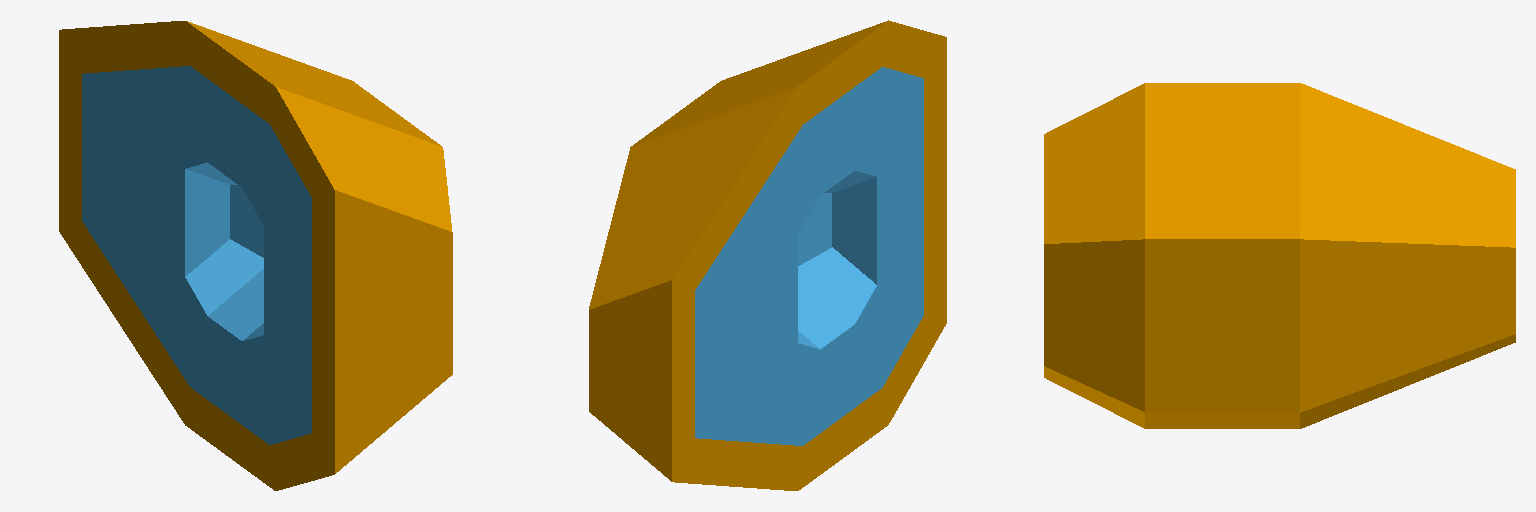
URDF robot description (seeded_half_avocado):
<?xml version="1.0"?>
<robot name="seeded_half_avocado">
  <link name="peel">
    <inertial>
        <origin rpy="0 0 0" xyz="0 0 0"/>
        <mass value="0.001"/>
        <inertia ixx="4.4e-5" ixy="0" ixz="0" iyy="0" iyz="0" izz="4.4e-5"/>
    </inertial>
    <visual>
      <geometry>
        <mesh filename="peel_visual.obj"/>
      </geometry>
    </visual>
    <collision>
      <geometry>
        <mesh filename="peel_collision.obj"/>
      </geometry>
      <surface>
           <bounce restitution_coefficient = "0.1"/>
      </surface>
    </collision>
  </link>
  <link name="flesh">
    <inertial>
        <origin rpy="0 0 0" xyz="0 0 0"/>
        <mass value="0.0124"/>
        <inertia ixx="1.9e-5" ixy="0" ixz="0" iyy="6.8e-6" iyz="0" izz="1.2e-5"/>
    </inertial>
    <visual>
      <geometry>
        <mesh filename="flesh_visual.obj"/>
      </geometry>
    </visual>
    <collision>
      <geometry>
        <mesh filename="flesh_collision.obj"/>
      </geometry>
      <surface>
           <bounce restitution_coefficient = "0.1"/>
      </surface>
    </collision>
  </link>
  <joint name="peel_to_flesh" type="fixed">
    <parent link="peel"/>
    <child link="flesh"/>
    <origin rpy="0 0 0" xyz="0 0 0"/>
  </joint>
</robot>

--- What the picture shows (computed from the rendered views, not written in the file) ---
Views: 3 orthographic renders of the robot side by side, from view 1: azimuth 30°, elevation 25°; view 2: azimuth 150°, elevation 25°; view 3: azimuth 270°, elevation 25°.
Robot: seeded_half_avocado — 2 links, 1 joints (1 fixed); root link peel; default pose: every joint at zero.
Links seen in each view (by area): view 1: peel, flesh; view 2: peel, flesh; view 3: peel.
Boxes of the visible links, <box> form: peel: <box>59,21,452,490</box>; flesh: <box>82,66,311,444</box>; peel: <box>589,20,946,490</box>; flesh: <box>695,67,923,445</box>; peel: <box>1044,83,1515,428</box>.
Bounding box of the posed robot: 0.0751 × 0.2137 × 0.1734 m (x, y, z).
Meshes: 2 distinct files referenced, 2 mesh visuals loaded (2 OBJ).
